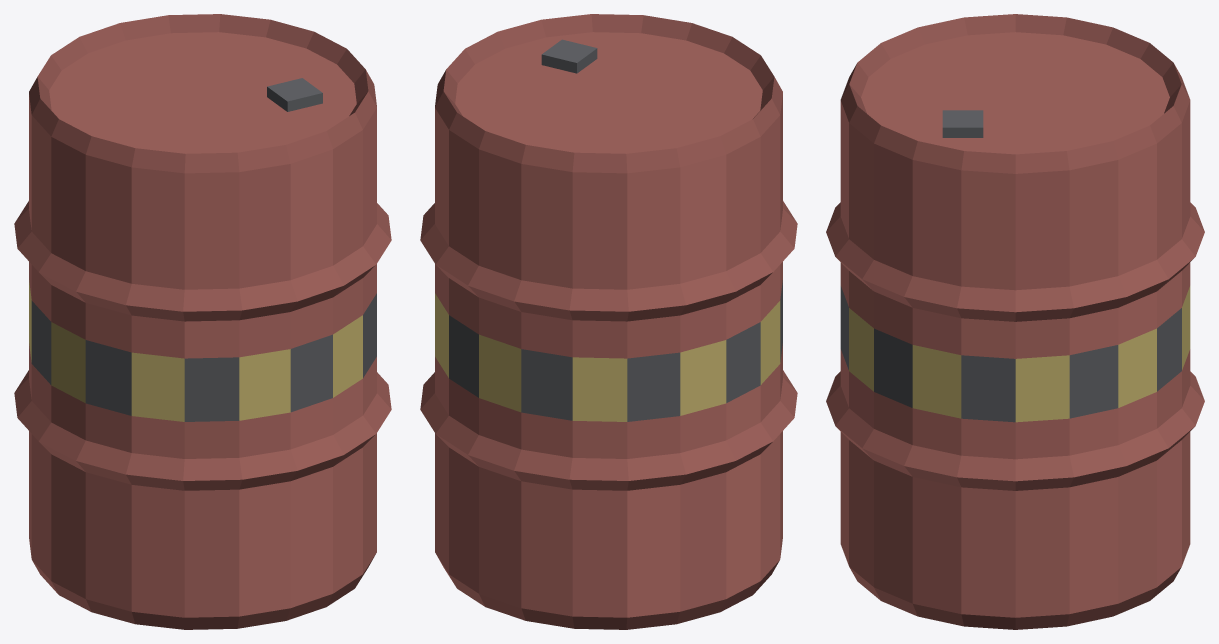
3 views of the same model, side by side, from view 1: azimuth 30°, elevation 25°; view 2: azimuth 150°, elevation 25°; view 3: azimuth 270°, elevation 25° (orthographic).
Visible parts, largest first — view 1: model-barrel; view 2: model-barrel; view 3: model-barrel.
Part boxes in pixels (x1,y1,x2,y2): model-barrel: (14, 14, 391, 629); model-barrel: (420, 14, 797, 629); model-barrel: (826, 14, 1204, 629).
Bounding box in the file's own units: 0.65 × 0.9 × 0.65.
